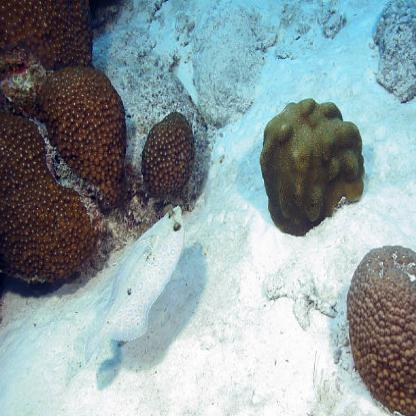flounder: (60, 199, 187, 384)
